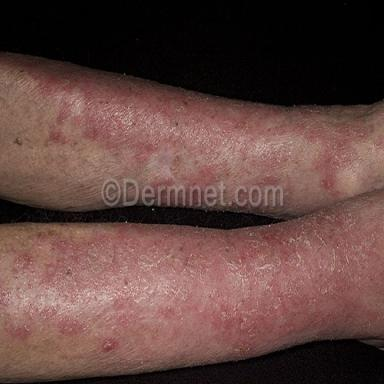eczema: (0, 192, 384, 358), (25, 58, 374, 196)
